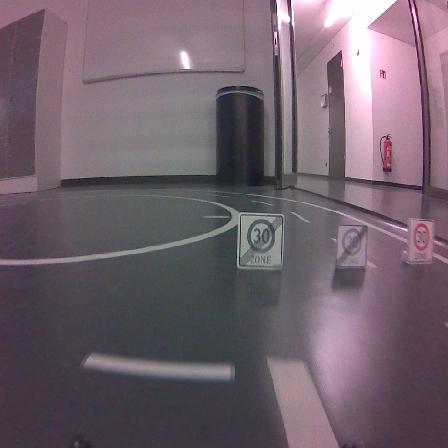30_ZONE_BEGIN: (407, 219, 435, 264)
30_ZONE_END: (237, 213, 285, 270), (336, 225, 368, 269)
